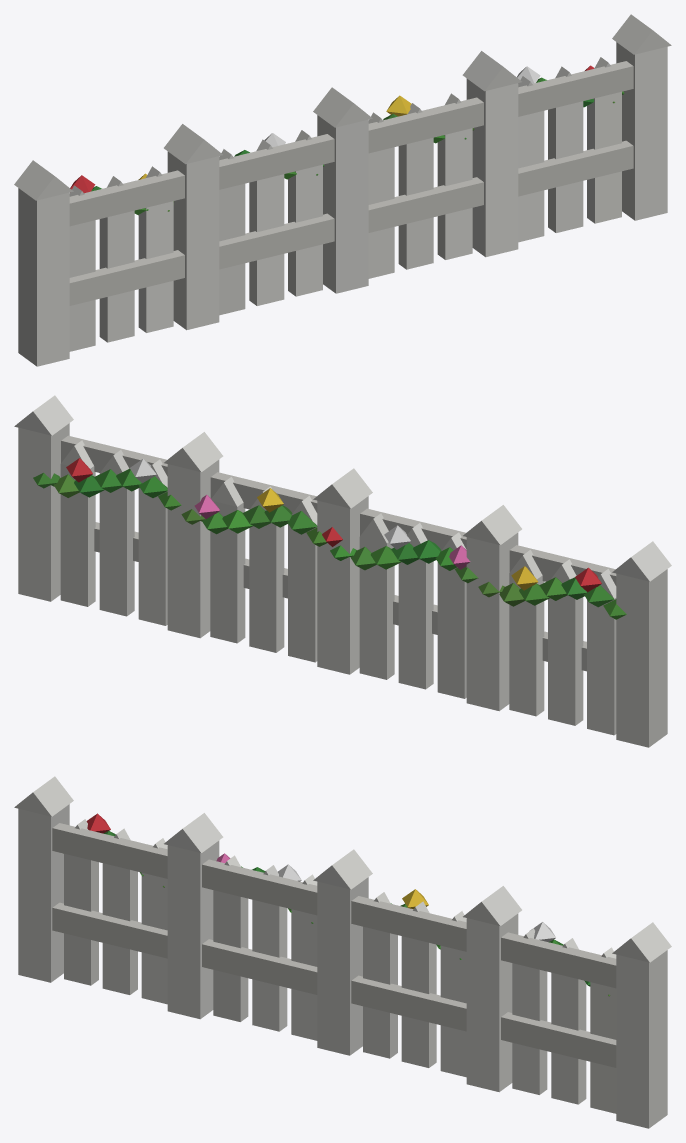
The model's file is Decor_LittleHouse_Fence.fbx.
3 views of the same model, one above another, from view 1: azimuth 30°, elevation 25°; view 2: azimuth 150°, elevation 25°; view 3: azimuth 330°, elevation 25° (orthographic).
Visible parts, largest first — view 1: Fence_Body, Fence_Roses; view 2: Fence_Body, Fence_Roses; view 3: Fence_Body, Fence_Roses.
Part boxes in pixels (x1,y1,x2,y2): Fence_Body: [14, 14, 671, 366]; Fence_Roses: [70, 65, 624, 215]; Fence_Body: [14, 395, 671, 747]; Fence_Roses: [33, 458, 626, 619]; Fence_Body: [14, 776, 671, 1128]; Fence_Roses: [86, 813, 610, 996].
Bounding box in the file's own units: 23.4 × 6.6 × 1.7.
